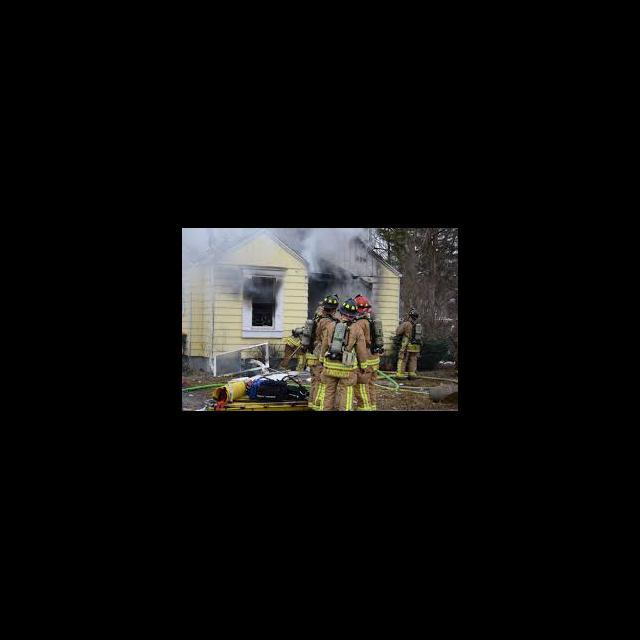Smoke: (183, 230, 267, 295), (294, 228, 366, 280)
